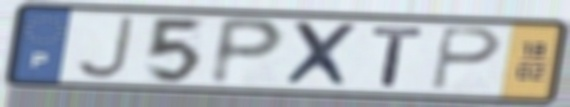5: (140, 16, 209, 85)
J: (71, 14, 137, 81)
P: (205, 14, 290, 88), (429, 24, 505, 93)
T: (368, 25, 429, 89)
X: (280, 20, 362, 90)
